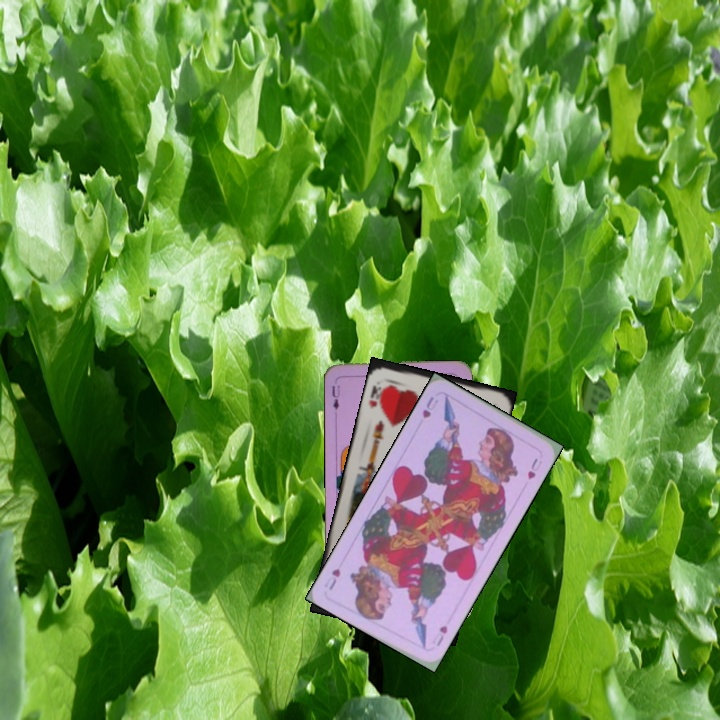EU: (328, 382, 342, 412)
HK: (365, 381, 388, 411)
HU: (418, 392, 441, 421), (428, 621, 450, 649)
